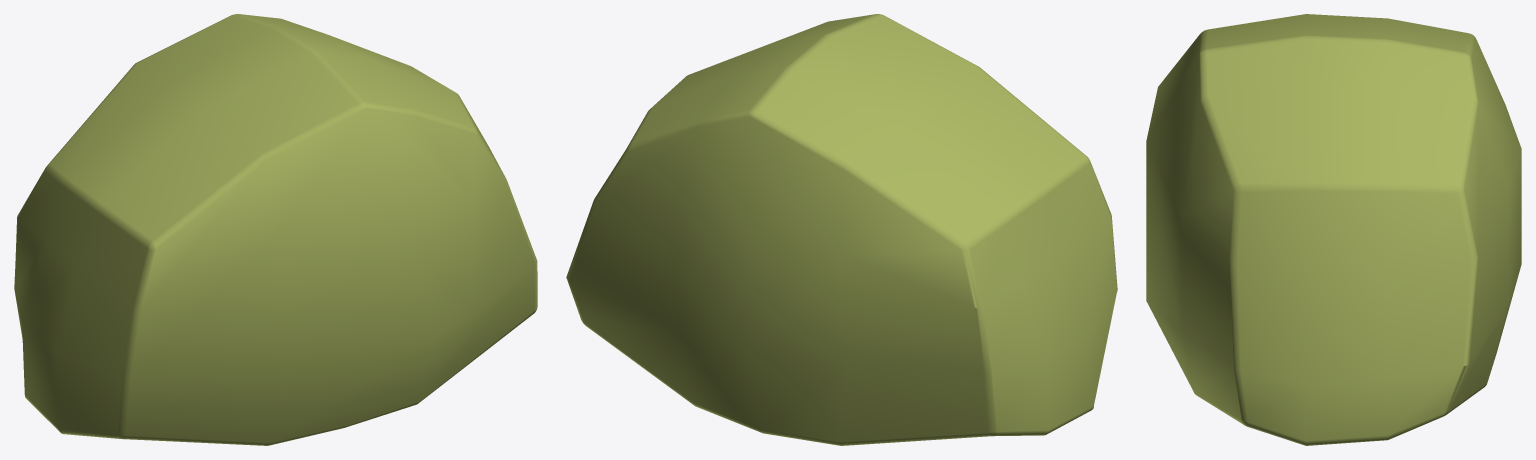
Rendered from PlantOneFBX.fbx.
The picture shows the model from 3 angles, left to right: view 1: azimuth 30°, elevation 25°; view 2: azimuth 150°, elevation 25°; view 3: azimuth 270°, elevation 25°; orthographic projection. The views are drawn at different scales.
Parts seen in each view (by area): view 1: pCube38; view 2: pCube38; view 3: pCube38.
Boxes of the visible parts, x1=… form: pCube38: x1=14, y1=14, x2=537, y2=445; pCube38: x1=566, y1=14, x2=1117, y2=445; pCube38: x1=1146, y1=14, x2=1521, y2=445.
Bounding box in the file's own units: 1.81 × 1.27 × 1.21.
